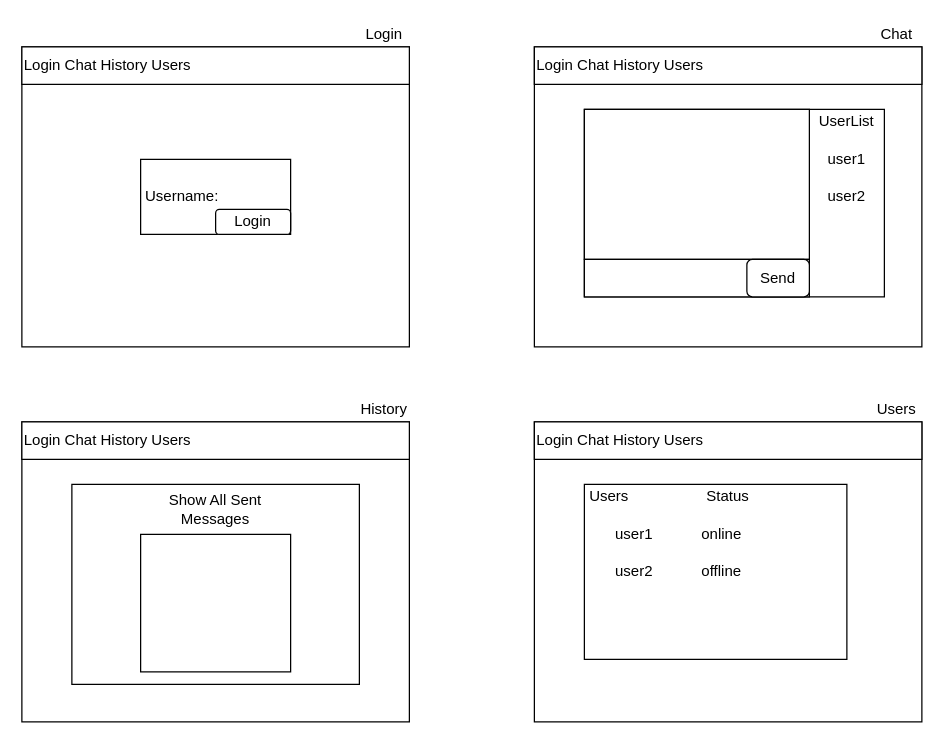
The diagram is 944 pixels wide and 744 high, and some of its shapes have lost their labels. The shapes that lost their labels are listed below. From the top down, each one's box as (x1, y1, x2, y2) in pixels, then its label:
(583, 108, 809, 259): Active Chat
(583, 258, 809, 297): User message
